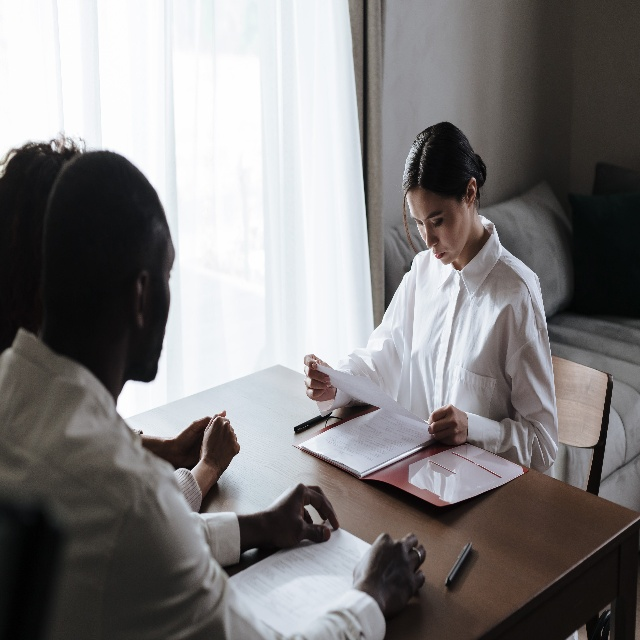Sin_guantes: (354, 527, 427, 621), (262, 479, 340, 551), (197, 407, 242, 476), (171, 413, 213, 475), (427, 403, 469, 449), (300, 350, 337, 401)
